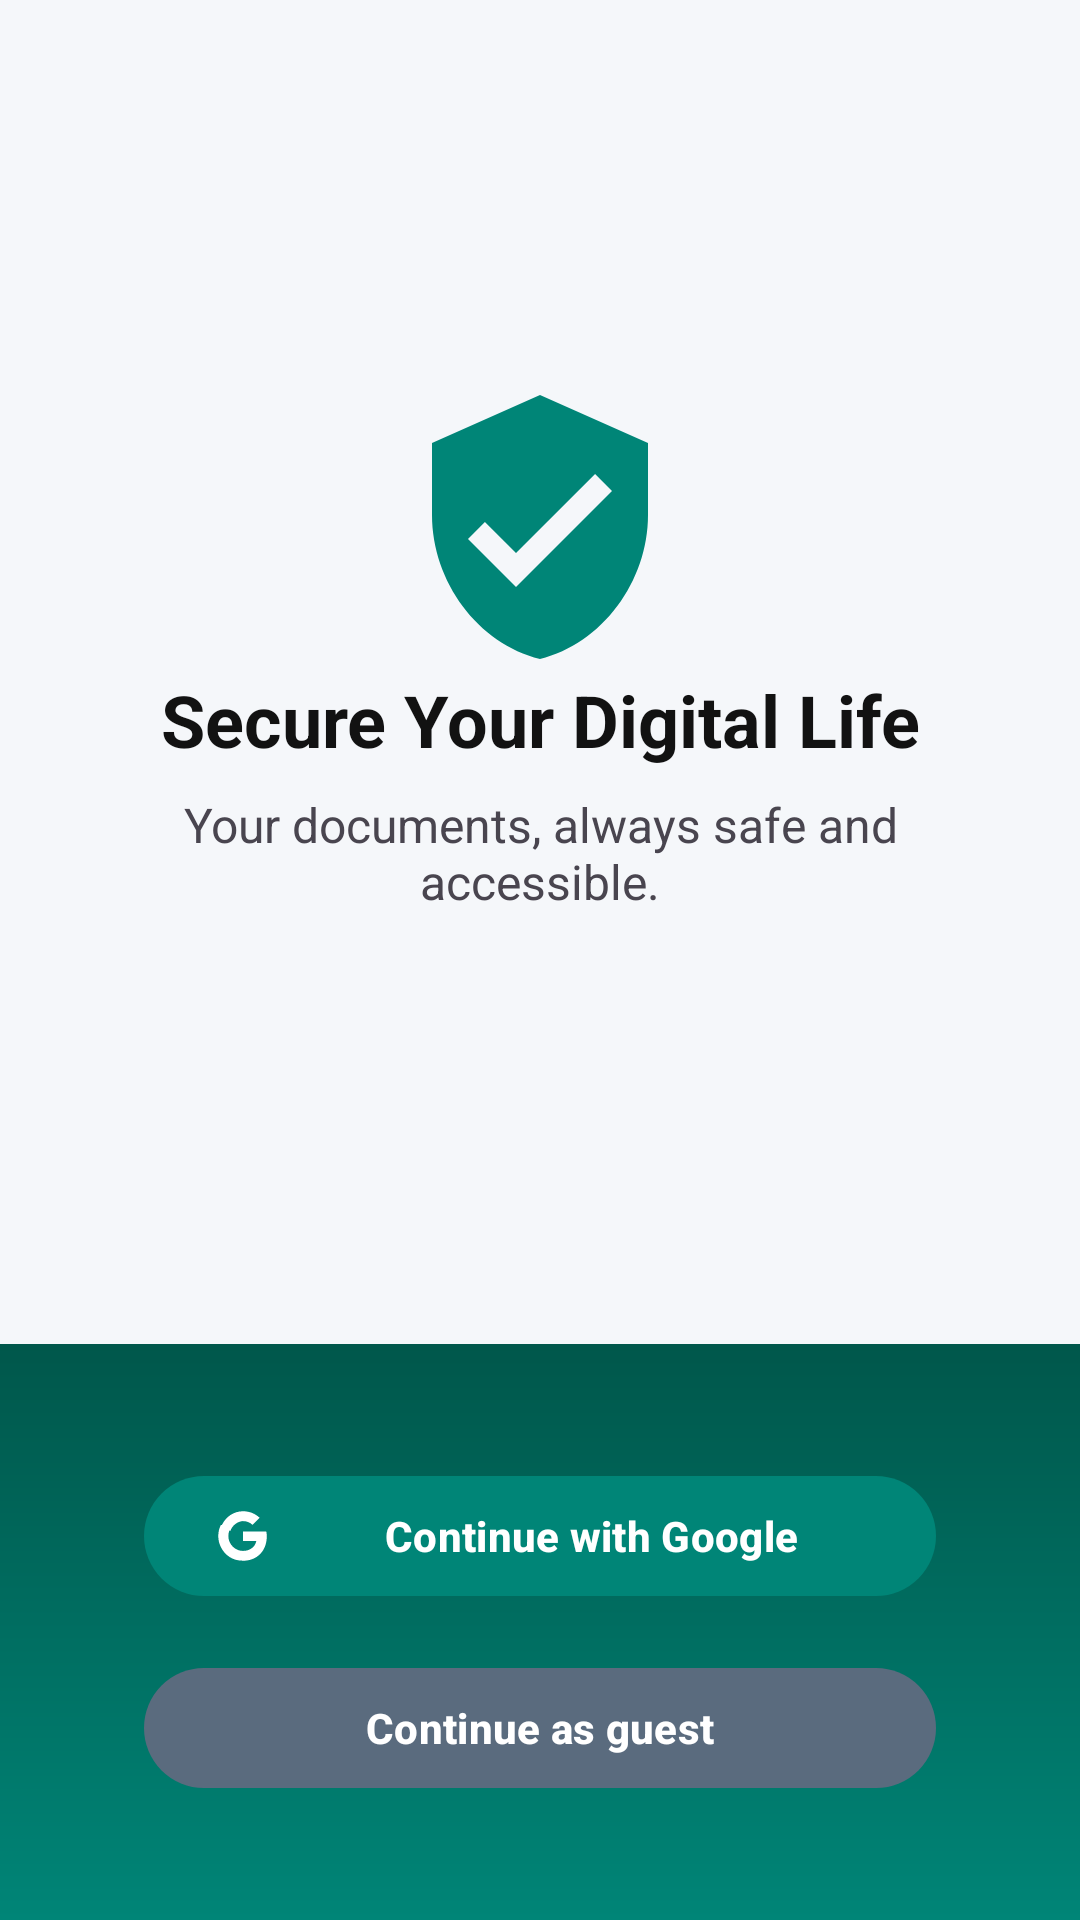

Point at icon controls on the screen. Image size 1080×1920, points as (x,y).
security shield: (540,527)
